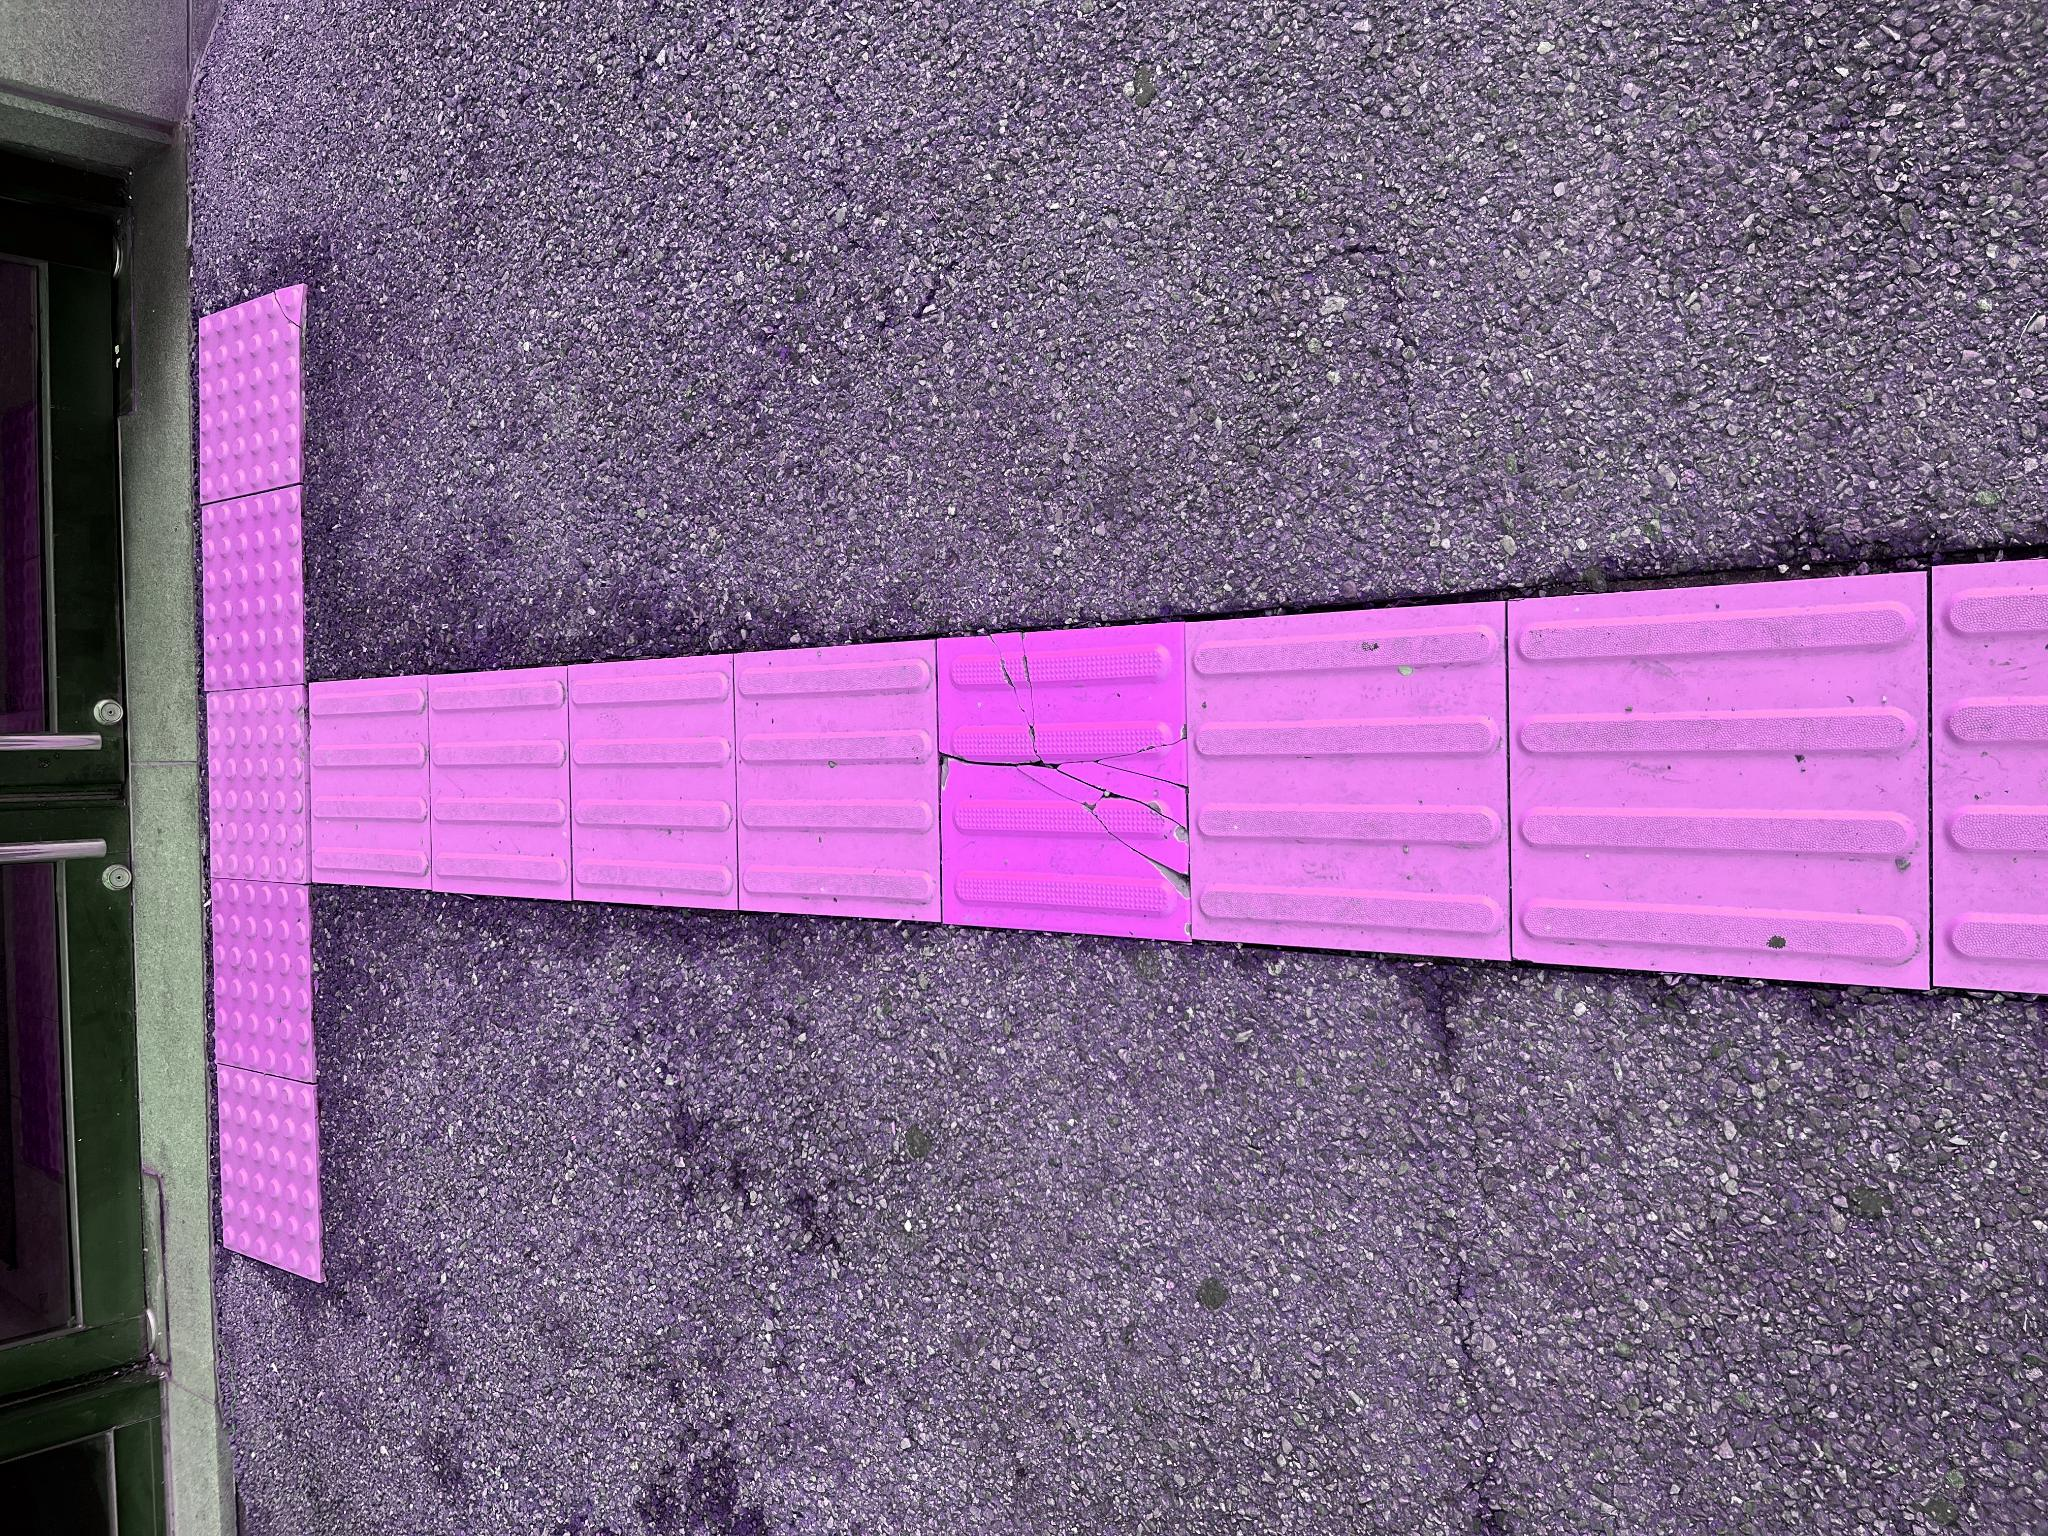Stop block normal: (253, 218, 471, 321), (653, 208, 850, 308)
Straight block broken: (597, 941, 910, 1189)
Straight block normal: (577, 1187, 932, 1507), (627, 570, 880, 734)
